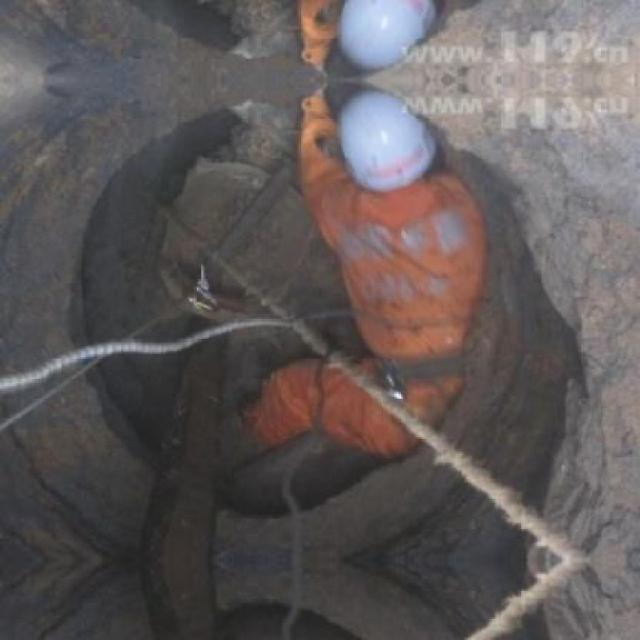con casco: (289, 97, 491, 216)
